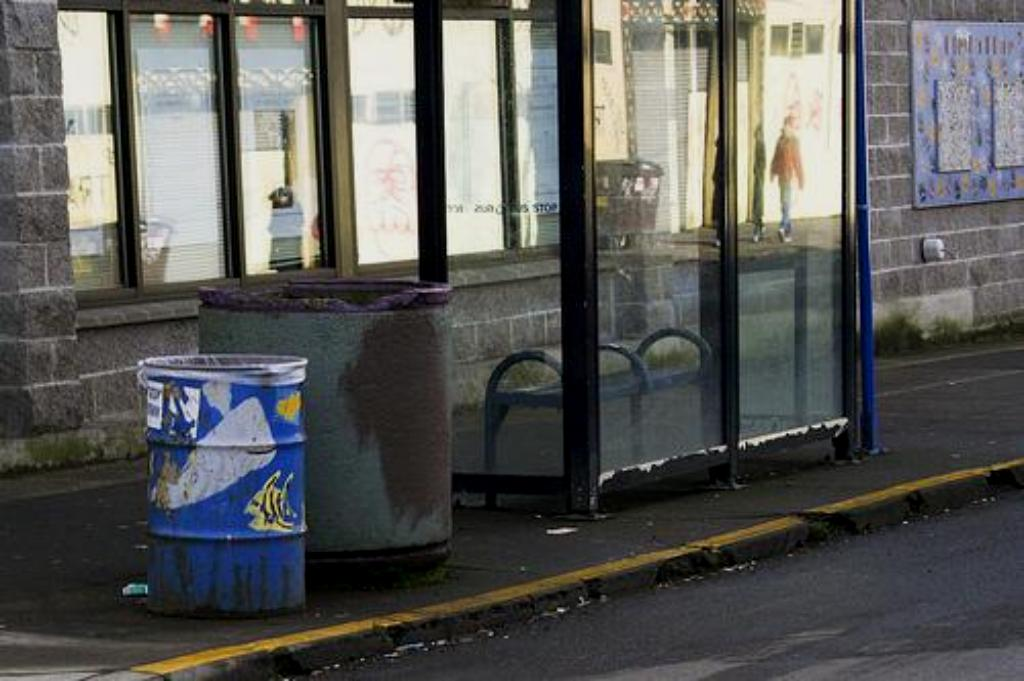dustbin: (152, 343, 310, 638)
